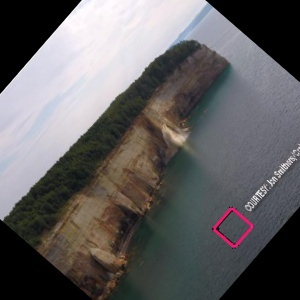square: (211, 205, 255, 250)
